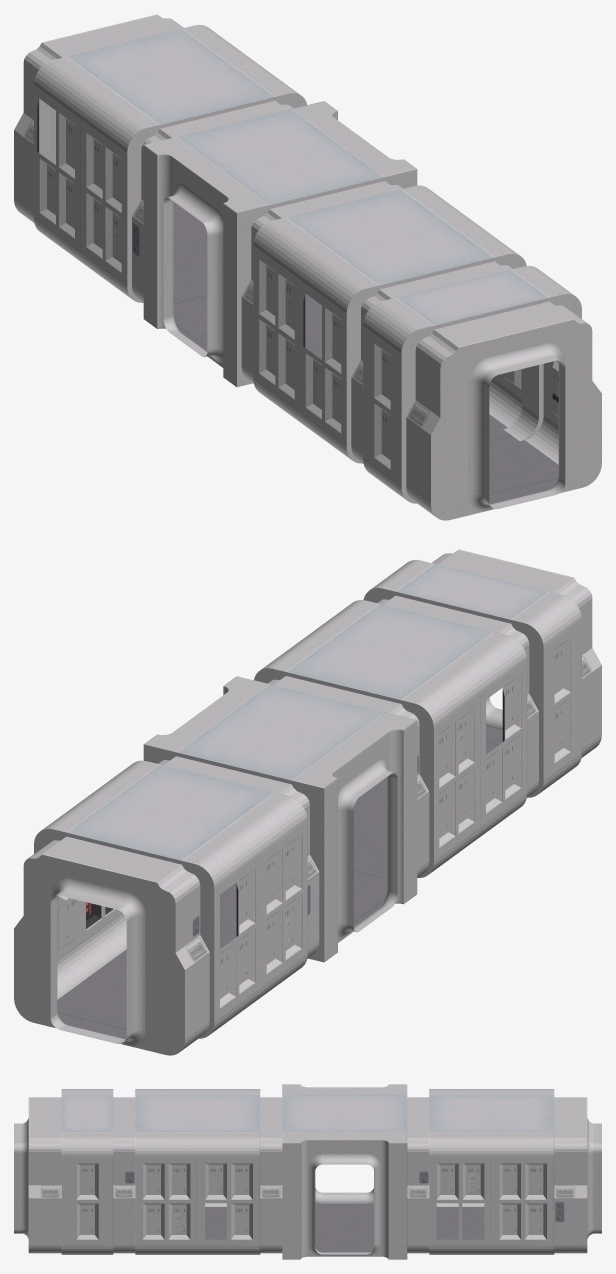
The model's file is thm_spc_corvette_dungeon_r17_hall17_mesh_r17.fbx.
3 views of the same model, one above another, from view 1: azimuth 30°, elevation 25°; view 2: azimuth 150°, elevation 25°; view 3: azimuth 270°, elevation 25° (orthographic). The views are drawn at different scales.
Parts seen in each view (by area): view 1: mesh_node; view 2: mesh_node; view 3: mesh_node.
Part boxes in pixels (x1=…): mesh_node: x1=14, y1=14, x2=601, y2=520; mesh_node: x1=14, y1=549, x2=601, y2=1055; mesh_node: x1=14, y1=1084, x2=601, y2=1259.
Bounding box in the file's own units: 4 × 3.5 × 16.
